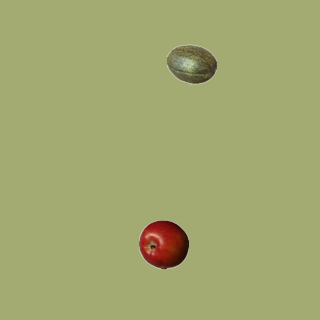Apple Braeburn: (138, 219, 188, 269)
Melon Piel de Sapo: (166, 39, 216, 89)
